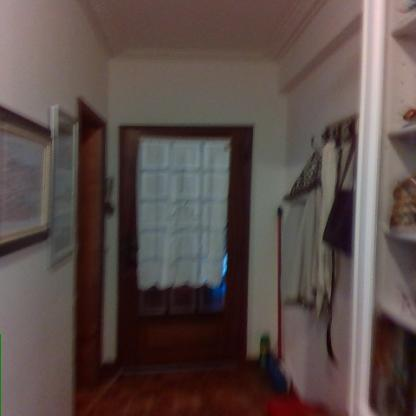closed: (104, 107, 270, 379)
